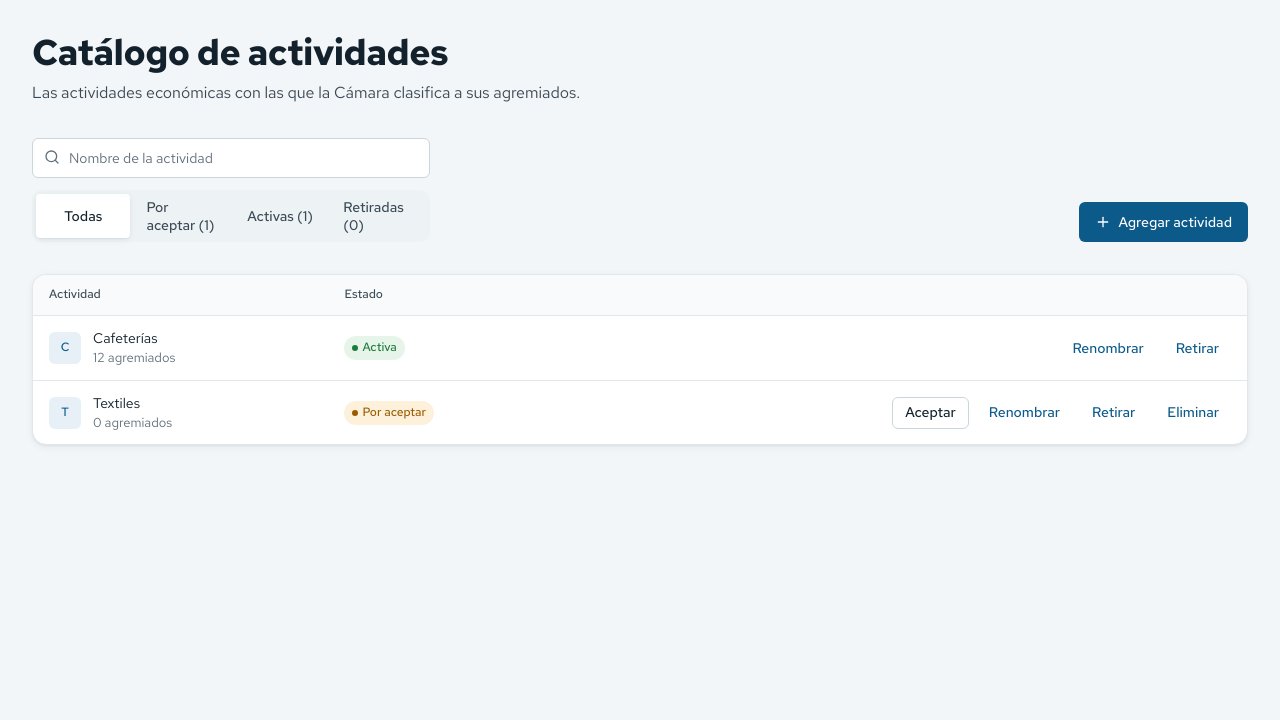
Test: ActivitiesPage › a name the catalog already has is shown on the field, not as a toast
Click the button "Agregar actividad" at (1163, 222), box top-left (1078, 202), bottom-right (1248, 242)
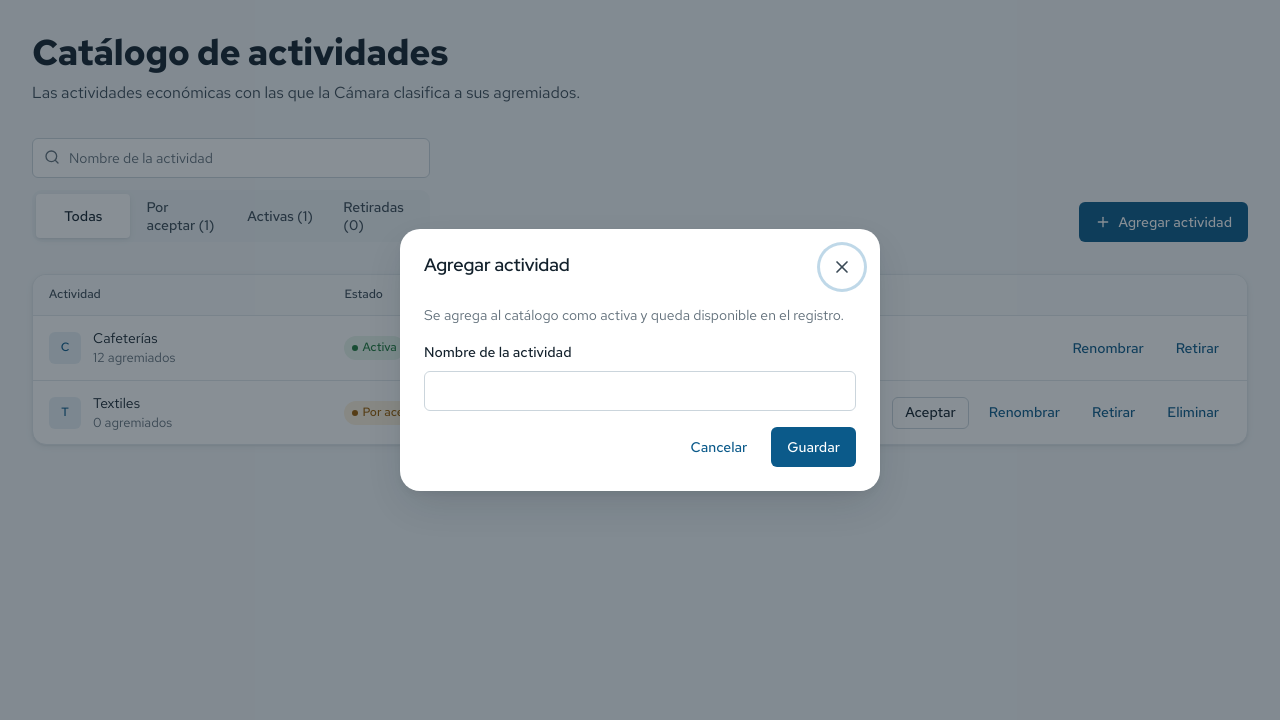
Type "cafeterías" into the field labelled "Nombre de la actividad" at (640, 391), box top-left (424, 371), bottom-right (856, 411)
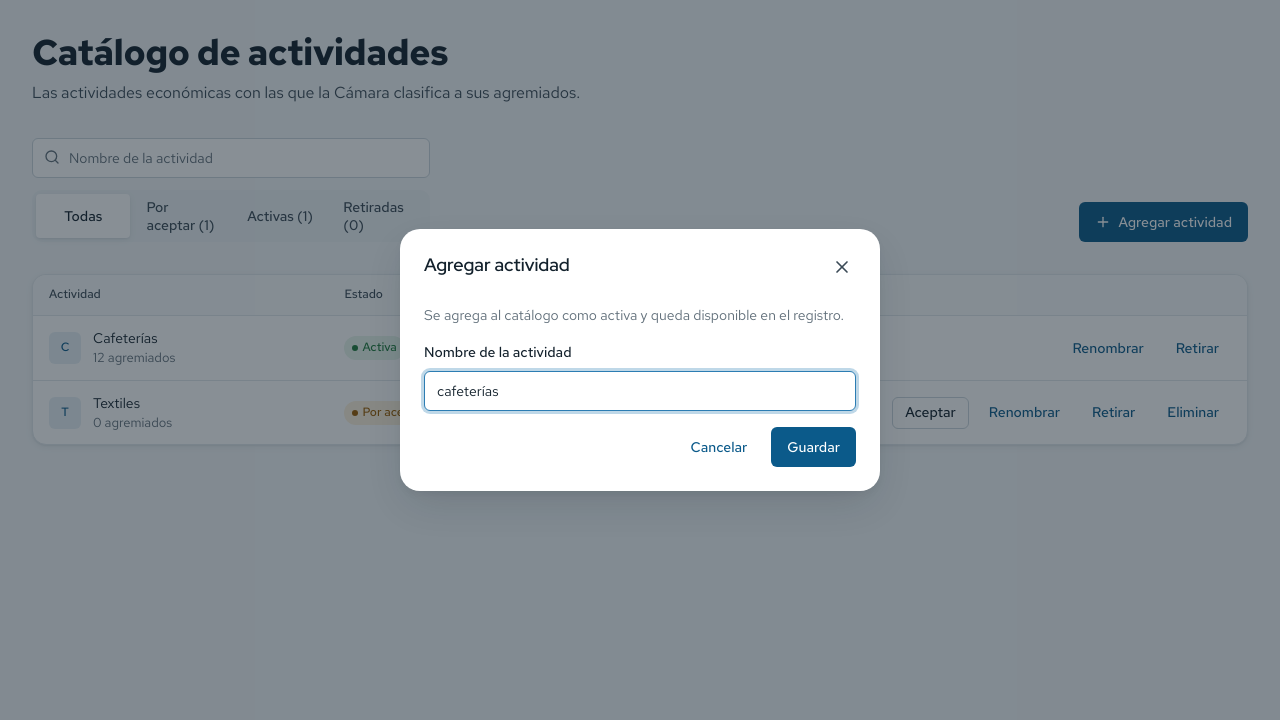
Click the button "Guardar" at (814, 447), box top-left (771, 427), bottom-right (856, 467)
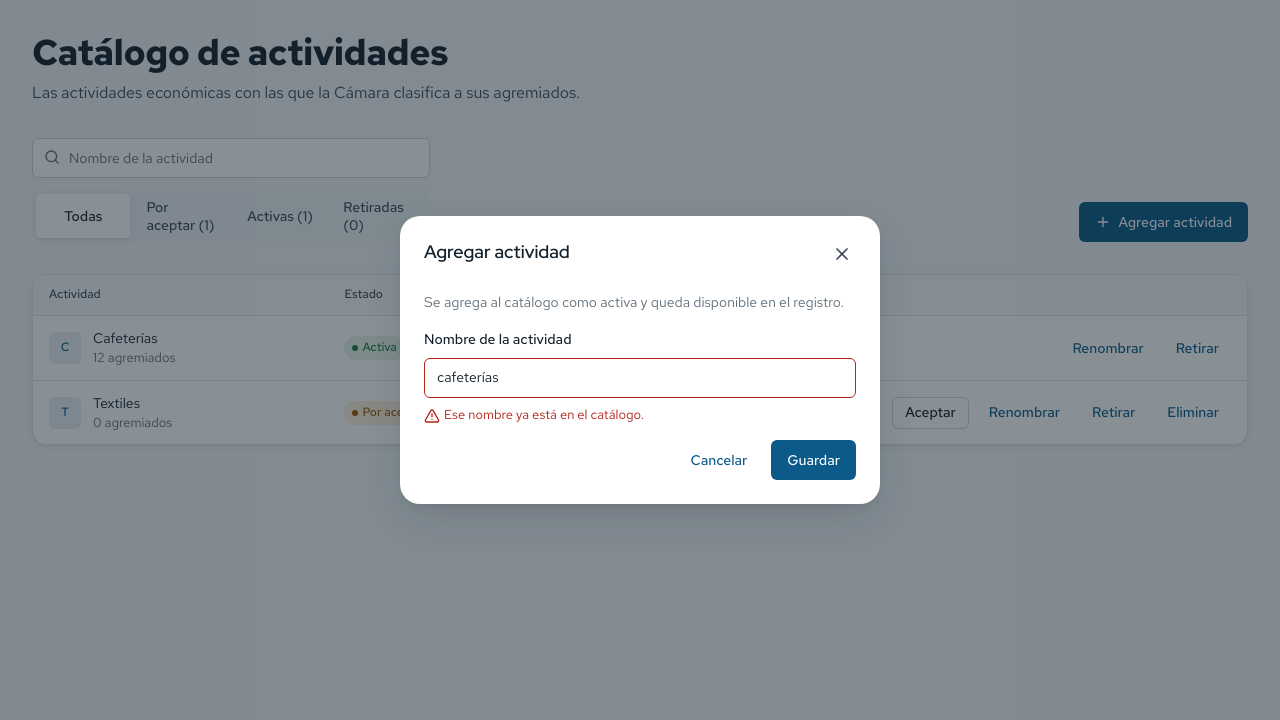
Now the text "Ese nombre ya está en el catálogo." is shown, box top-left (424, 406), bottom-right (644, 424)
